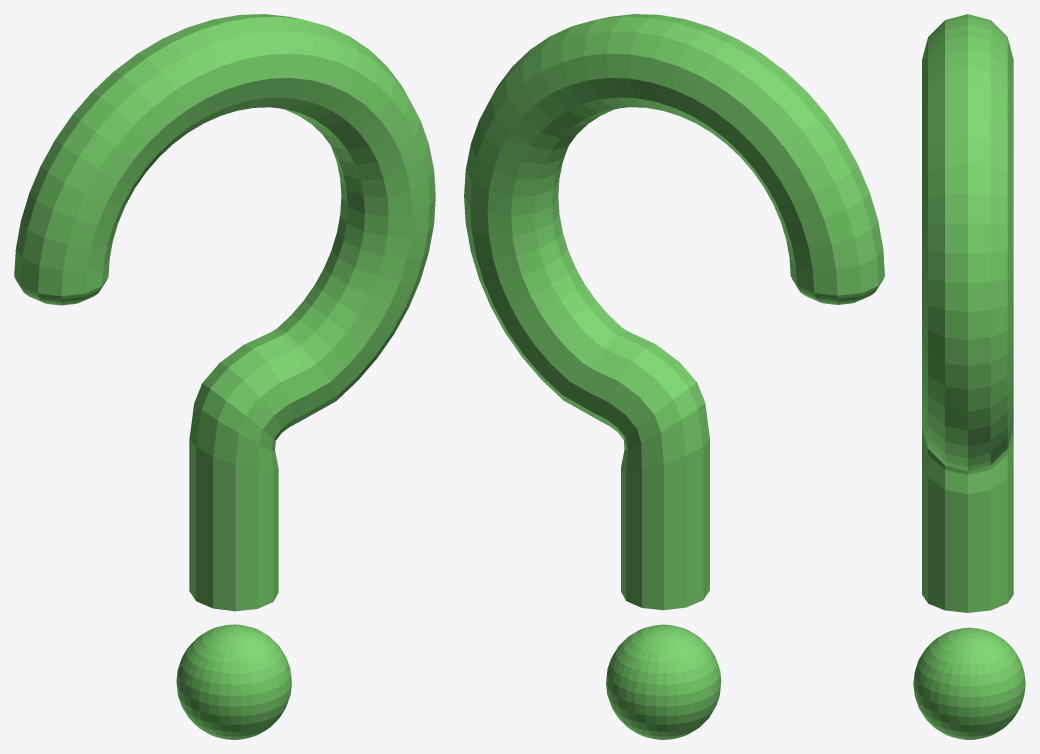
The model's file is unknown_file_obj.fbx.
3 views of the same model, side by side, from view 1: azimuth 30°, elevation 25°; view 2: azimuth 150°, elevation 25°; view 3: azimuth 270°, elevation 25° (orthographic). The views are drawn at different scales.
Visible parts, largest first — view 1: Uknown; view 2: Uknown; view 3: Uknown.
Part boxes in pixels (x1=…): Uknown: x1=14, y1=14, x2=435, y2=739; Uknown: x1=464, y1=14, x2=884, y2=739; Uknown: x1=913, y1=14, x2=1025, y2=739.
Size of the model in its own units: 250 by 418 by 61.23.
